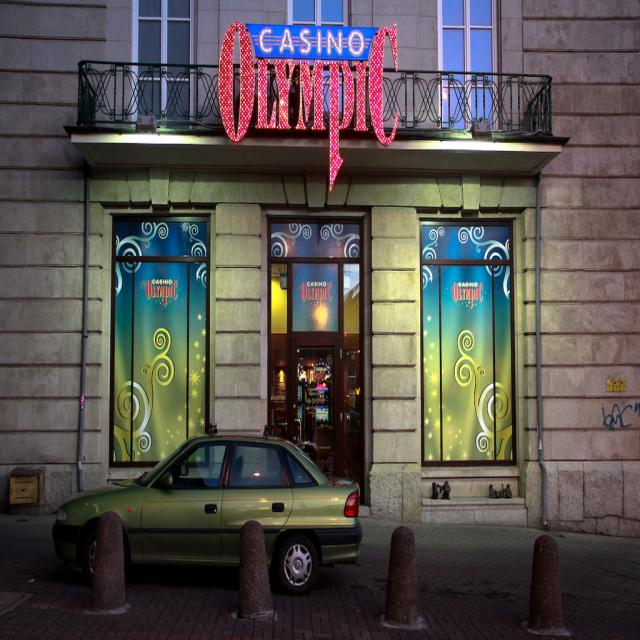car: (54, 430, 366, 611)
